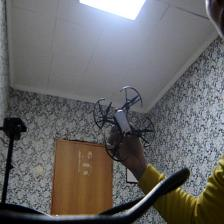drone: (90, 82, 158, 163)
